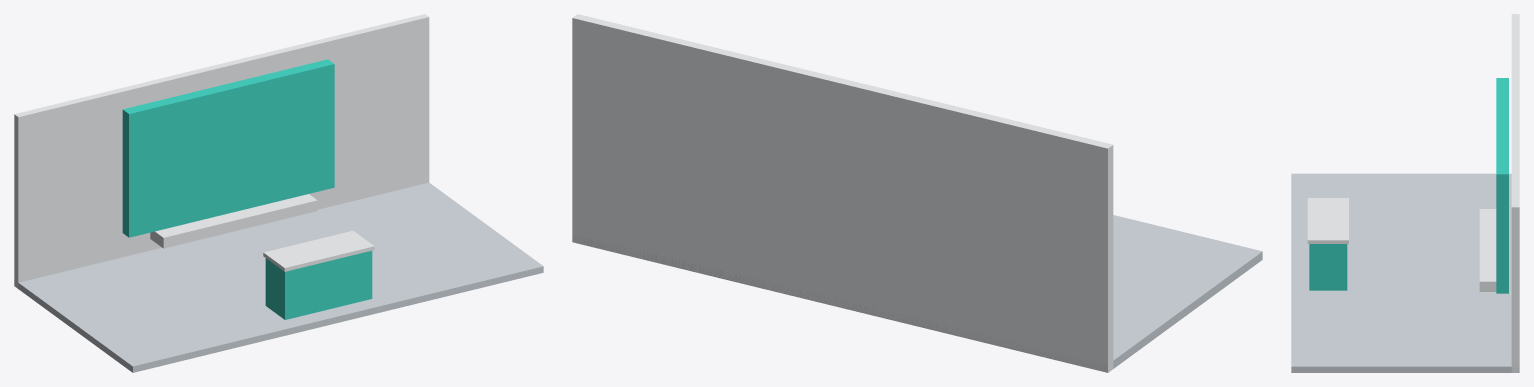
3 renders of one model, left to right at view 1: azimuth 30°, elevation 25°; view 2: azimuth 150°, elevation 25°; view 3: azimuth 270°, elevation 25°, orthographic. The views are drawn at different scales.
Visible parts, largest first — view 1: Exhibition Booth Concept; view 2: Exhibition Booth Concept; view 3: Exhibition Booth Concept.
Boxes of the visible parts, box(x1,y1,x2,y2) form: Exhibition Booth Concept: box(14, 14, 543, 372); Exhibition Booth Concept: box(572, 14, 1262, 372); Exhibition Booth Concept: box(1291, 14, 1519, 372).
Size of the model in its own units: 8 by 3.2 by 4.
